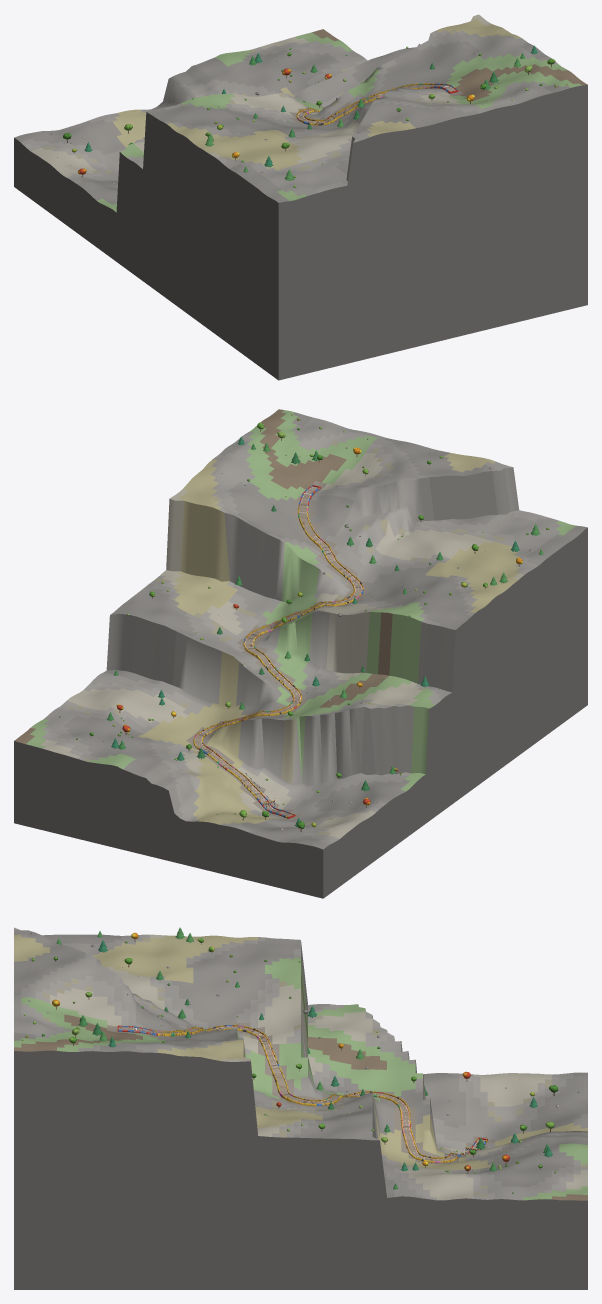
3 views of the same model, one above another, from view 1: azimuth 30°, elevation 25°; view 2: azimuth 150°, elevation 25°; view 3: azimuth 270°, elevation 25° (orthographic). The views are drawn at different scales.
Parts seen in each view (by area): view 1: grass, pines, hay; view 2: grass, road, hay, pines, leafy trees; view 3: grass, hay, road, pines, leafy trees.
Part boxes in pixels (bbox=[...]): grass: bbox=[14, 14, 587, 380]; pines: bbox=[84, 45, 537, 180]; hay: bbox=[296, 83, 458, 125]; grass: bbox=[14, 409, 587, 898]; road: bbox=[194, 486, 362, 816]; hay: bbox=[193, 485, 363, 818]; pines: bbox=[107, 436, 543, 827]; leafy trees: bbox=[89, 422, 487, 828]; grass: bbox=[14, 927, 587, 1289]; hay: bbox=[117, 1024, 487, 1163]; road: bbox=[118, 1026, 485, 1161]; pines: bbox=[56, 927, 552, 1189]; leafy trees: bbox=[53, 938, 558, 1168].
Bounding box in the file's own units: 270 × 191 × 400.
